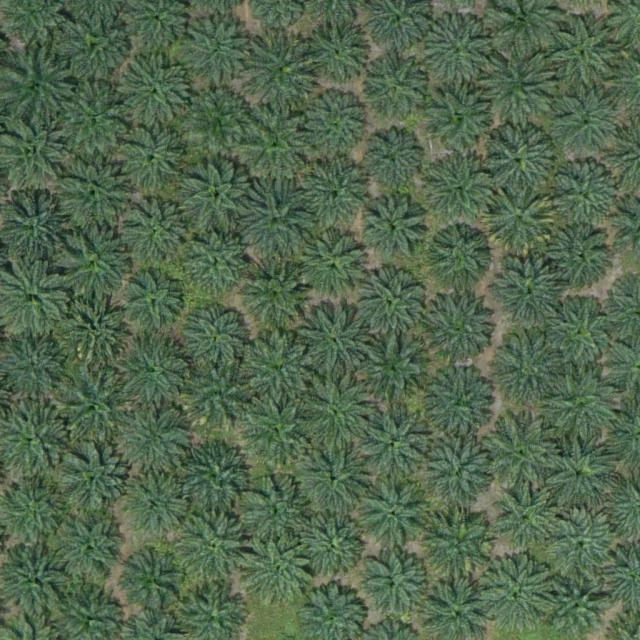Healthy: (543, 18, 621, 97), (479, 126, 557, 205), (475, 50, 553, 129), (422, 80, 500, 159), (236, 186, 314, 265), (245, 32, 323, 111), (180, 163, 258, 242), (544, 296, 622, 375), (55, 156, 133, 235), (55, 82, 133, 161), (59, 10, 137, 89), (62, 287, 140, 366), (56, 364, 134, 443), (56, 444, 134, 523), (116, 406, 194, 485), (116, 337, 194, 416), (177, 439, 255, 518), (174, 508, 252, 587), (242, 536, 320, 615), (238, 475, 316, 554), (295, 373, 373, 452), (296, 438, 374, 517), (294, 505, 372, 584), (355, 549, 433, 628), (355, 476, 433, 555), (422, 291, 500, 370), (424, 364, 502, 443), (421, 506, 499, 585), (482, 416, 560, 495), (486, 333, 564, 412), (489, 253, 567, 332), (542, 372, 620, 451), (538, 437, 616, 516), (543, 513, 621, 592), (422, 150, 500, 228), (296, 302, 374, 380), (359, 403, 437, 481), (359, 333, 437, 411), (421, 435, 499, 513), (481, 558, 559, 636), (551, 159, 622, 230), (126, 201, 197, 272), (552, 88, 623, 158), (302, 86, 372, 157), (124, 59, 194, 130), (118, 124, 188, 195), (61, 230, 131, 301), (122, 546, 192, 617), (184, 229, 254, 300), (242, 256, 312, 327), (180, 304, 251, 374), (302, 232, 372, 303), (424, 19, 494, 89), (304, 162, 374, 232), (238, 110, 308, 180), (182, 19, 252, 89), (55, 515, 125, 585), (242, 332, 312, 402), (185, 365, 255, 435), (429, 223, 492, 286), (129, 480, 192, 543), (360, 274, 423, 337), (548, 223, 610, 286), (364, 198, 426, 261), (359, 131, 421, 194), (365, 58, 427, 121), (306, 23, 368, 86), (185, 89, 247, 152), (123, 273, 185, 336), (247, 398, 309, 461), (496, 489, 558, 552), (549, 582, 604, 637)
Yellow: (483, 186, 561, 264)
